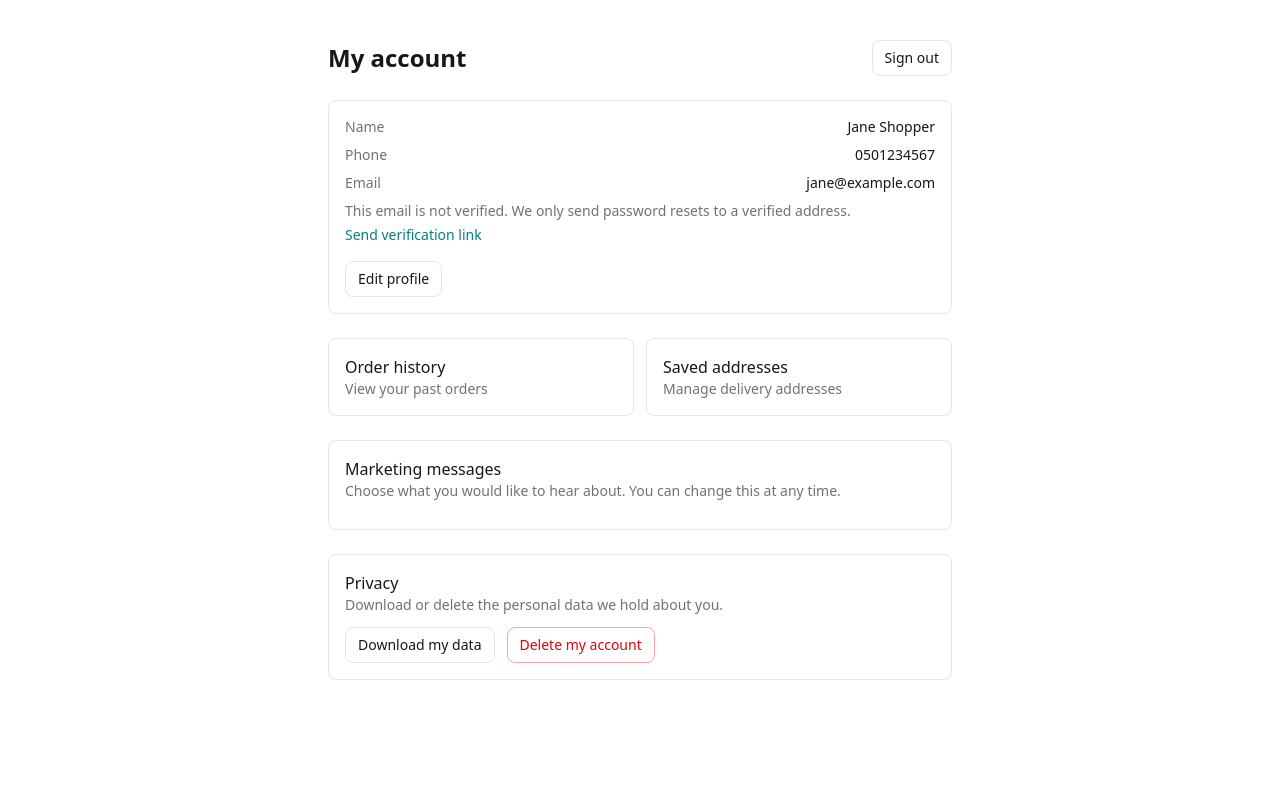
AccountDashboardPage — Privacy › Delete my account opens a confirmation modal with the explicit undo warning
This screenshot has width=1280, height=800.
Click the button "Delete my account" at (581, 645), box [506,627,655,663]
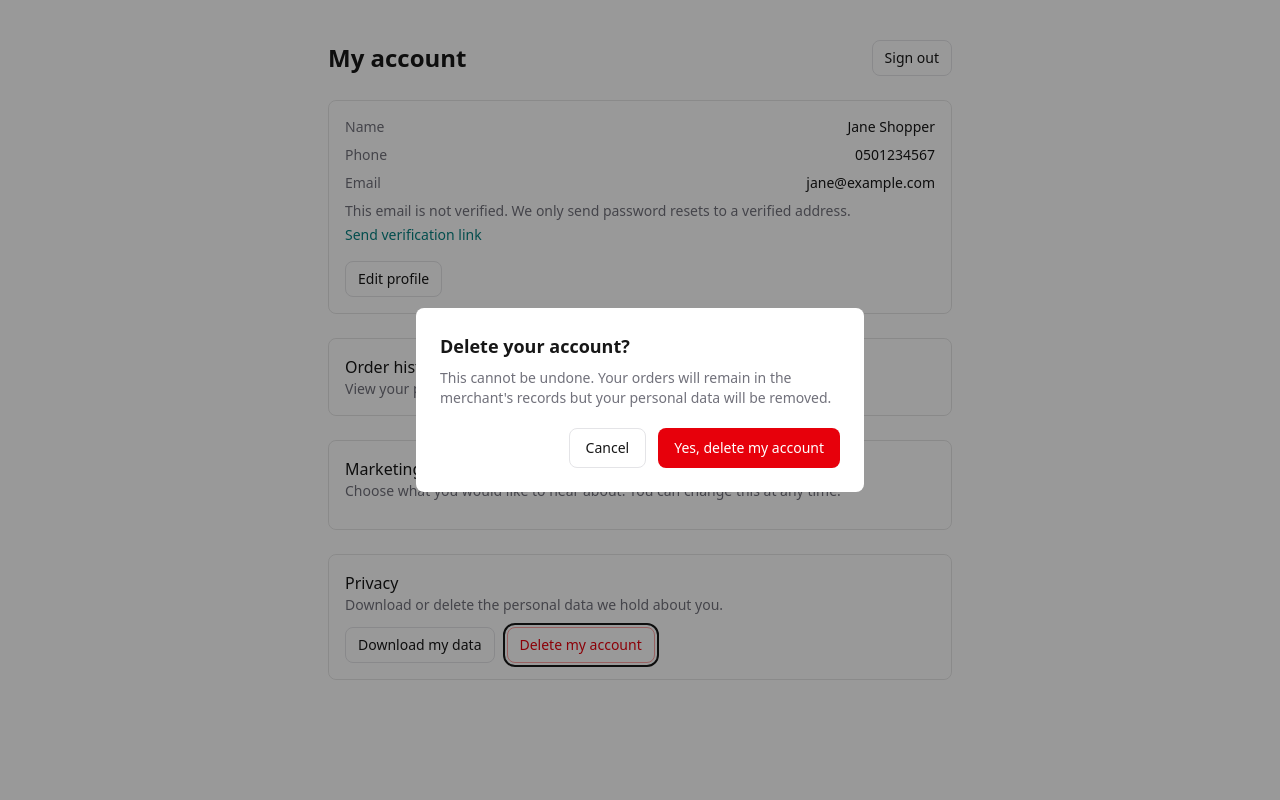
Check: the heading "Delete your account?" is shown, box [440,334,630,358]
Check: the text "cannot be undone" is shown, box [440,368,831,407]
